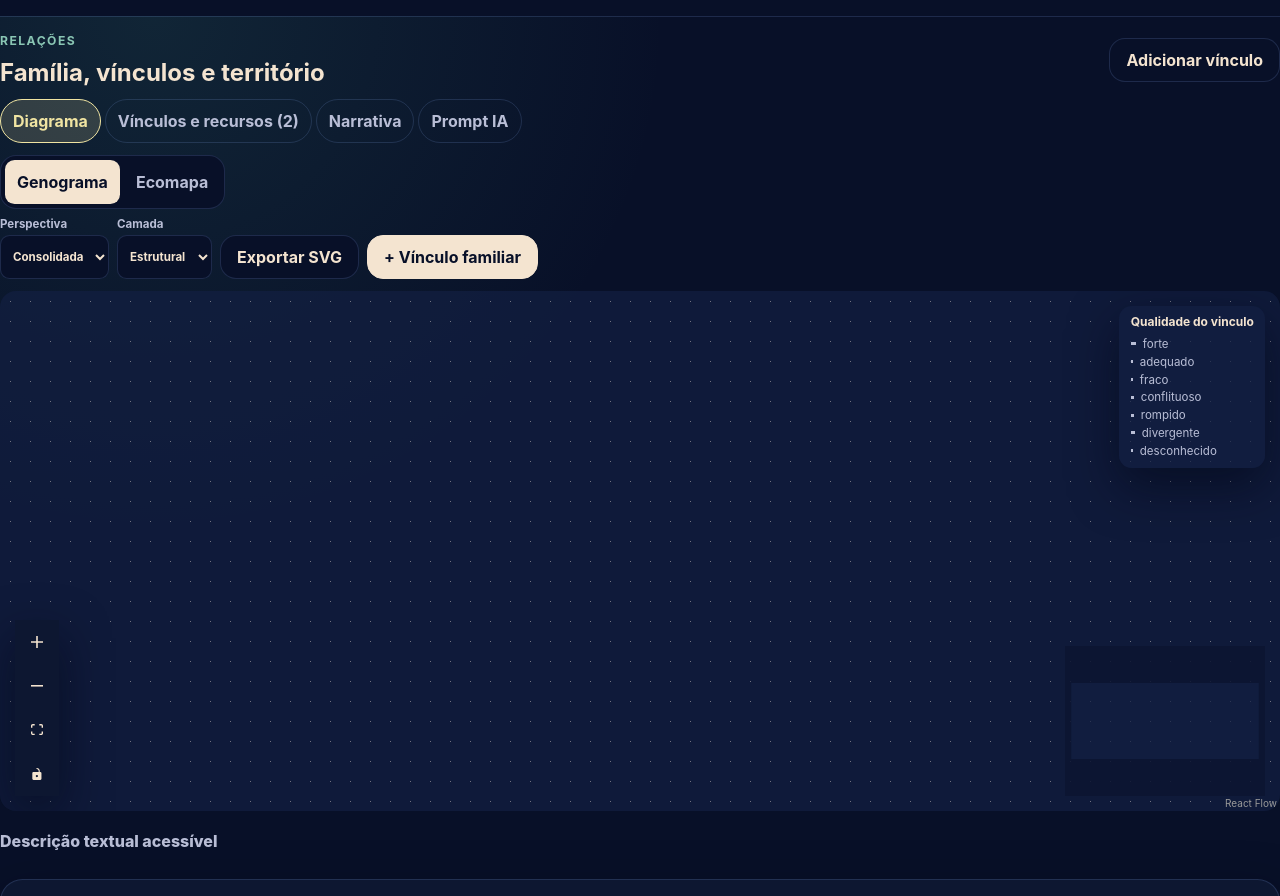
Test: revisao de vinculos › lista os vinculos existentes com botao de editar e excluir
Click the tab "Vínculos e recursos (2)": (208, 121) top-left (105, 99), bottom-right (312, 143)
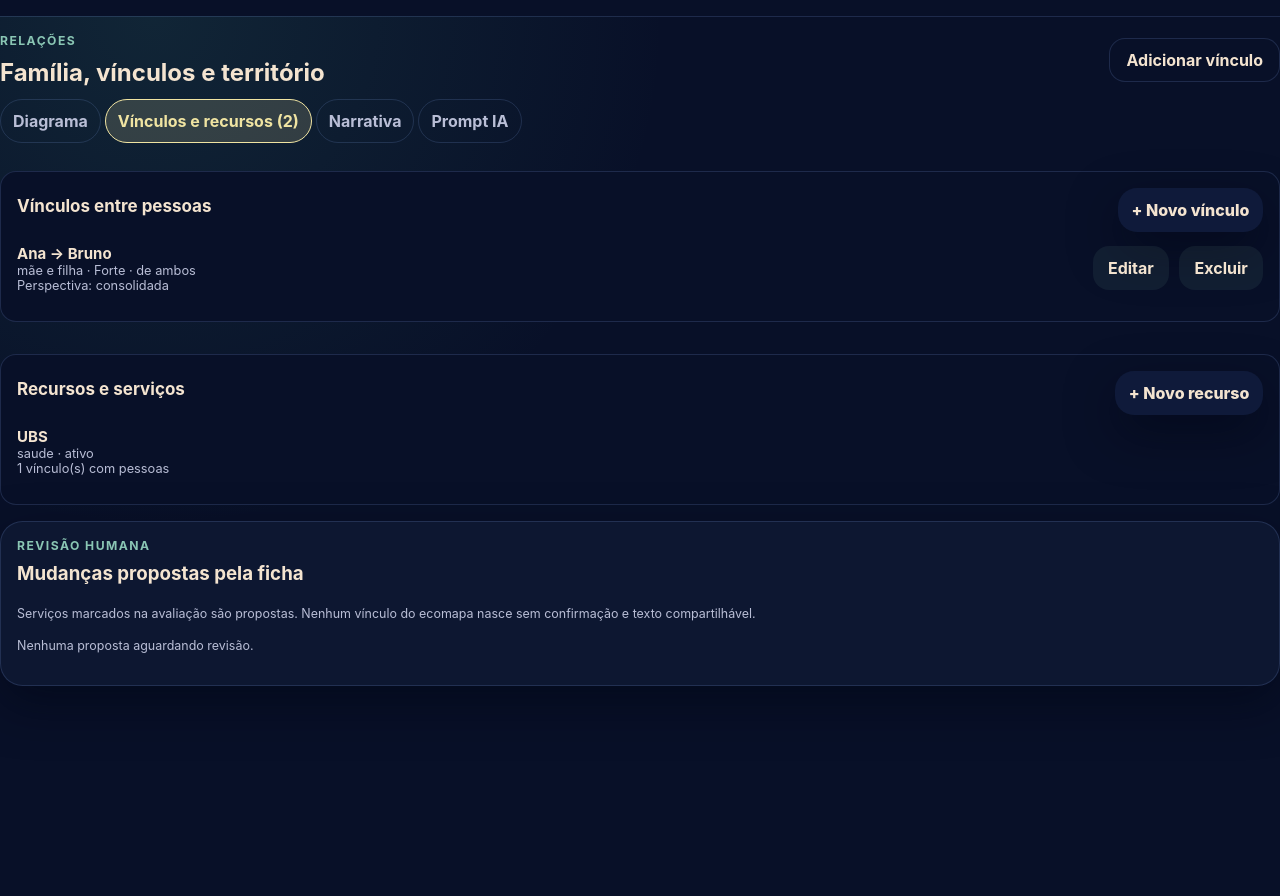
Result: the text "Ana → Bruno" is shown at top-left (17, 244), bottom-right (112, 263)
Result: the text "mãe e filha · Forte · de ambos" is shown at top-left (17, 263), bottom-right (196, 278)
Result: the button "Editar" is shown at top-left (1093, 246), bottom-right (1169, 290)
